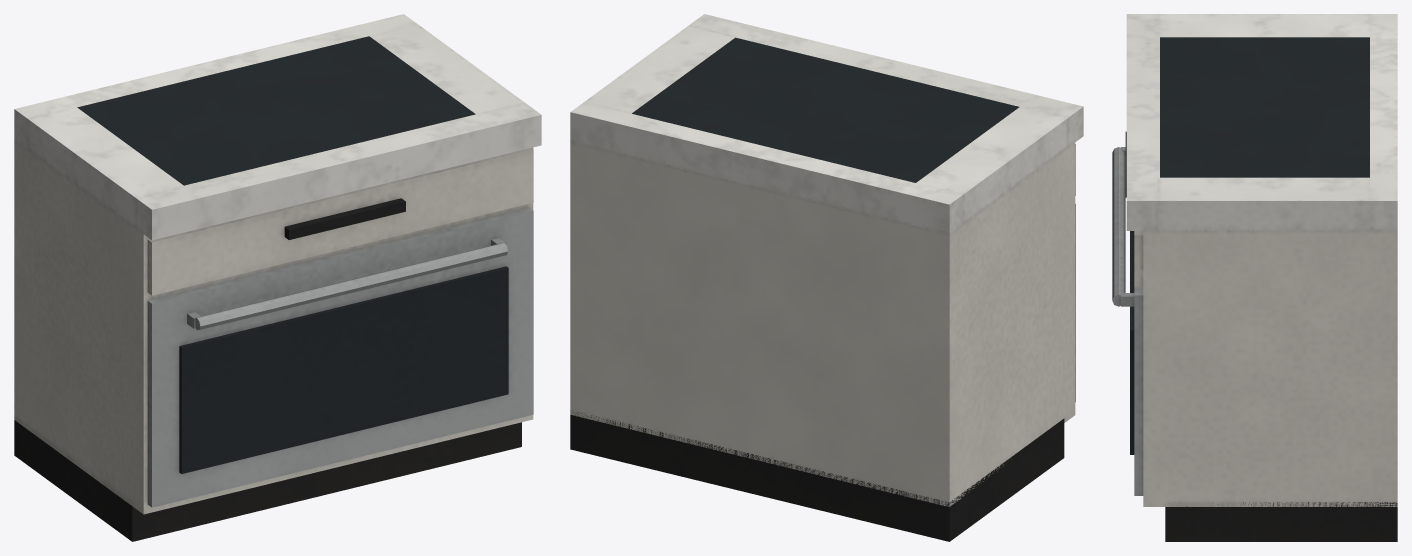
The model's file is H_KitchenHob.fbx.
3 renders of one model, left to right at view 1: azimuth 30°, elevation 25°; view 2: azimuth 150°, elevation 25°; view 3: azimuth 270°, elevation 25°, orthographic. The views are drawn at different scales.
Parts seen in each view (by area): view 1: H_KitchenHob; view 2: H_KitchenHob; view 3: H_KitchenHob.
Part boxes in pixels (bbox=[...]): H_KitchenHob: bbox=[14, 14, 541, 541]; H_KitchenHob: bbox=[570, 14, 1083, 541]; H_KitchenHob: bbox=[1112, 14, 1397, 541].
Size of the model in its own units: 400 by 340 by 258.
Materials: 1 (1 with a texture image).
